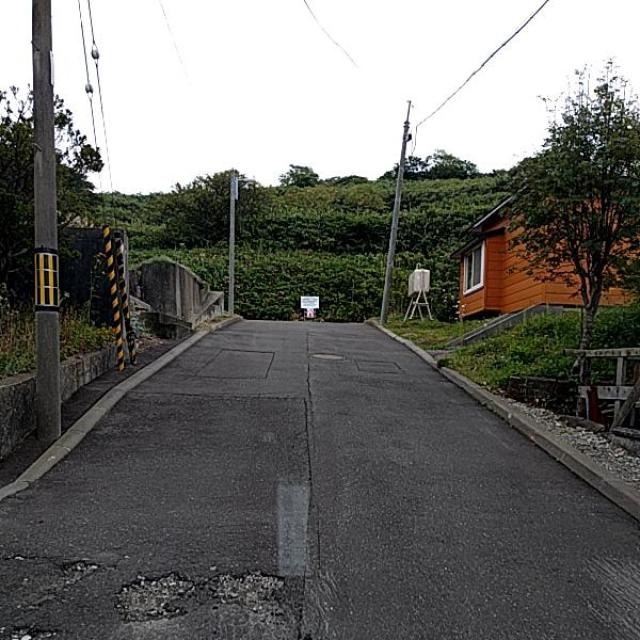Crack: (239, 344, 394, 606)
Surface Erosion: (13, 520, 208, 638)
